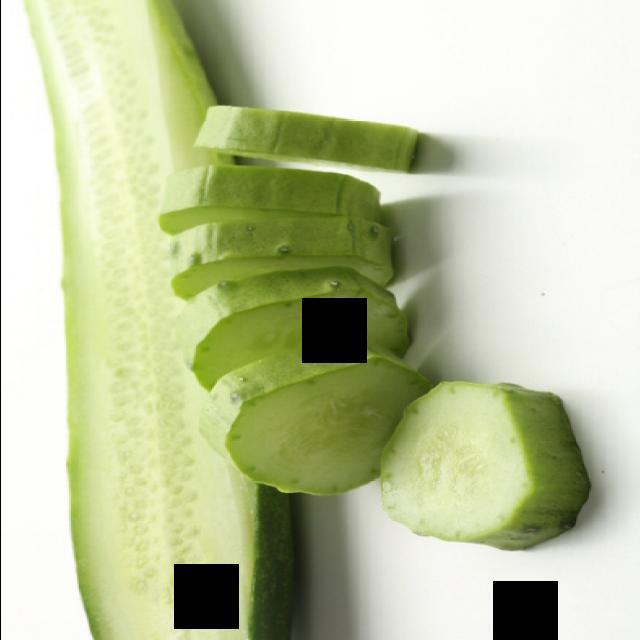cucumber: (0, 0, 325, 640), (159, 258, 483, 522), (366, 359, 590, 588), (178, 70, 454, 202), (106, 168, 422, 274)
